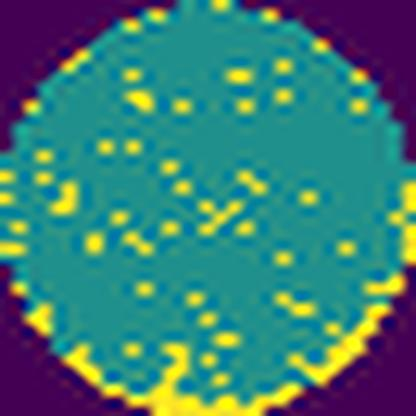Edge-Loc: (61, 337, 302, 416), (284, 296, 400, 386), (381, 173, 415, 269), (360, 268, 409, 296)
